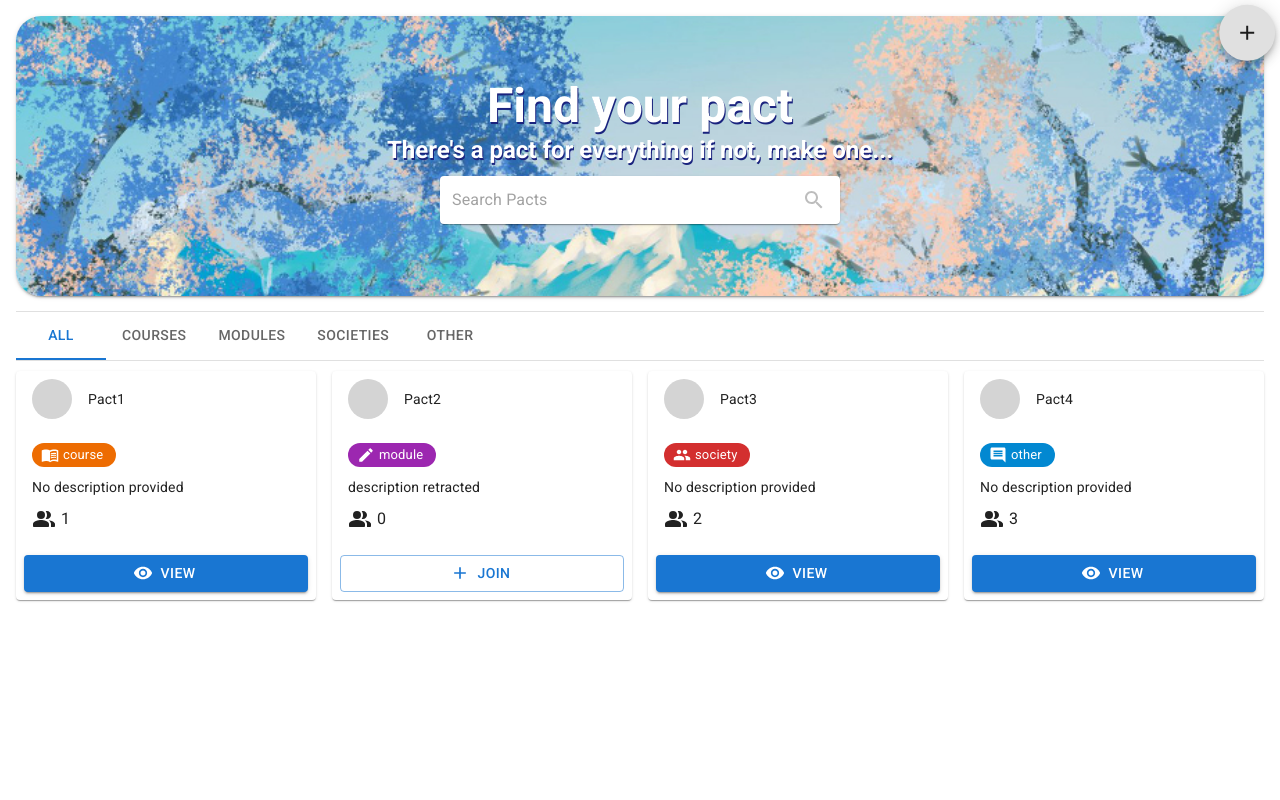
Test case: University Hub Tests › Check interaction with elements › Search bar interactions › should filter pacts using a partial match
Expected: the text "Pact1" is shown, [88,391,125,407]
Expected: the text "Pact2" is shown, [404,391,441,407]
Type "ac" into the field with placeholder "Search Pacts". click: (622, 200)
box: [452,184,792,216]
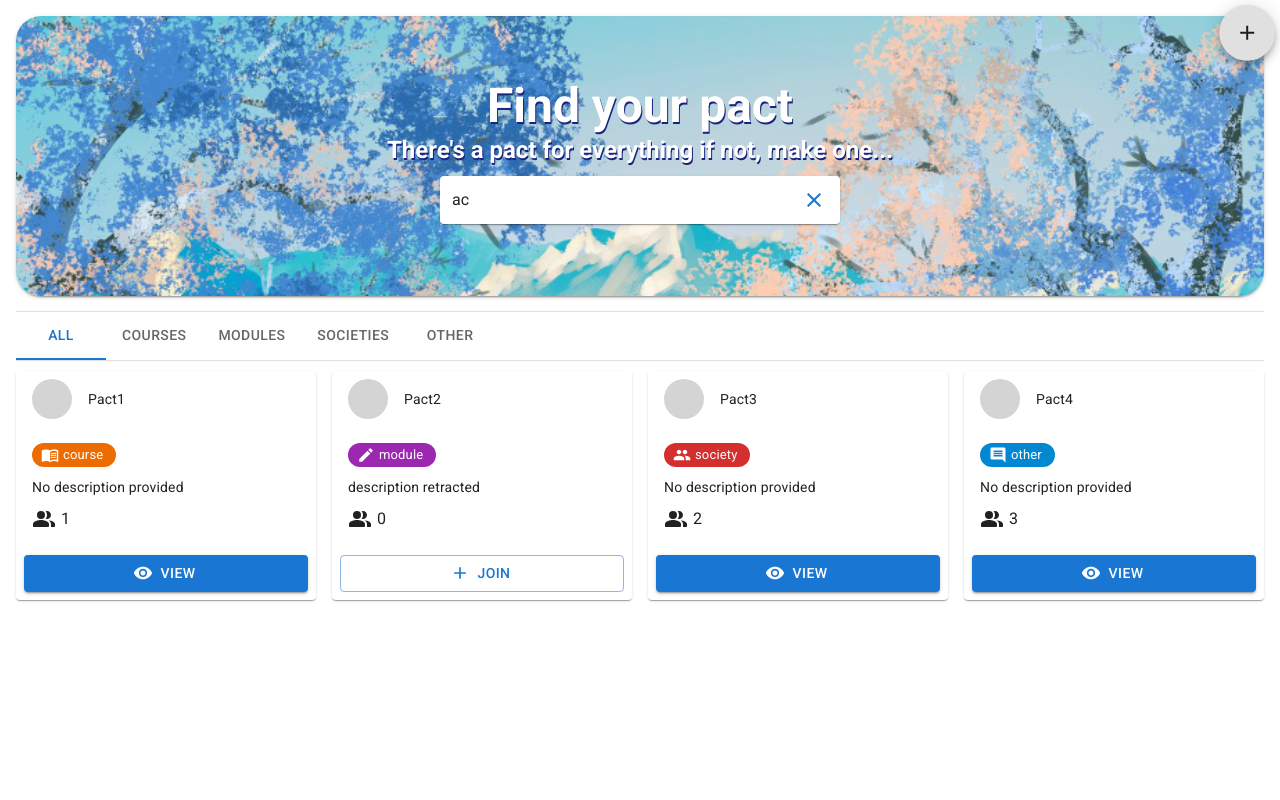
Expected: the text "Pact1" is shown, [88,391,125,407]
Expected: the text "Pact2" is shown, [404,391,441,407]
Replace the text in the field with placeholder "Search Pacts" with "act1". click: (622, 200)
box: [452,184,792,216]
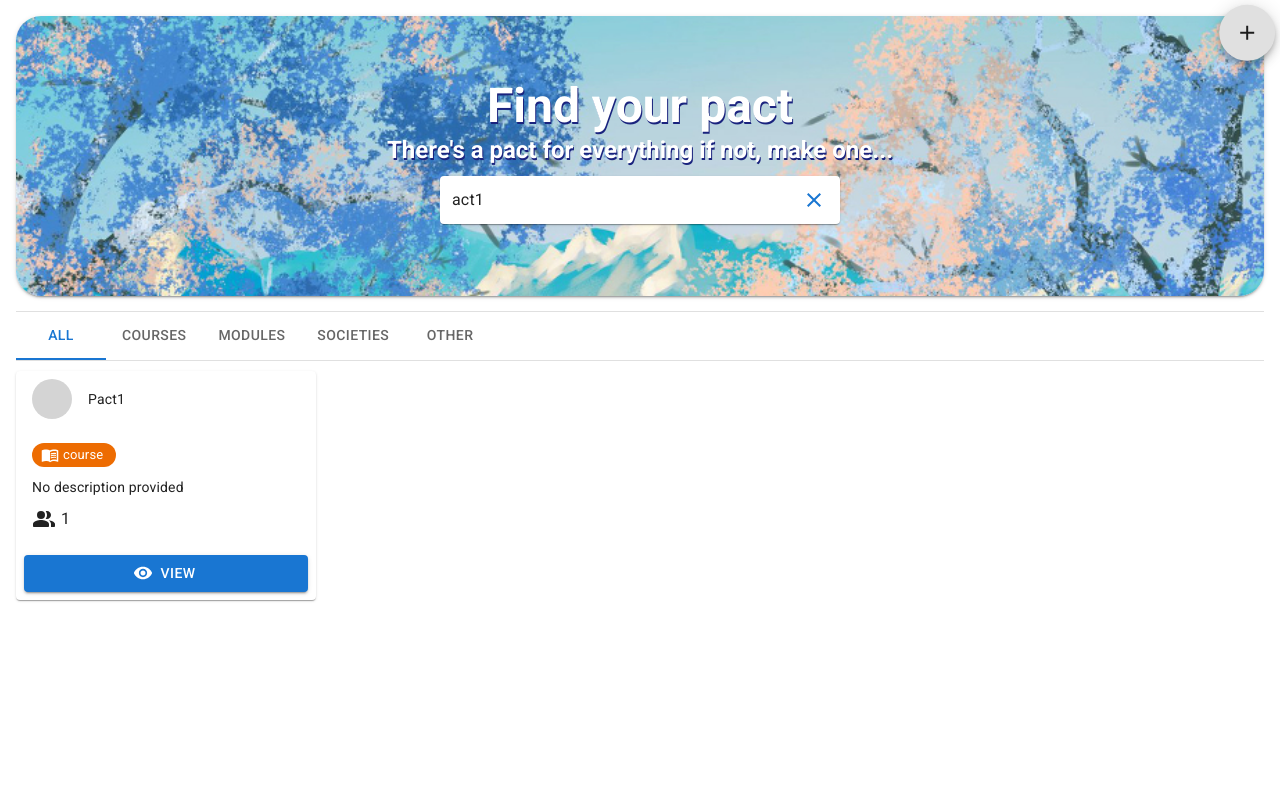
Now the text "Pact2" is gone
Now the text "Pact3" is gone
Now the text "Pact4" is gone
